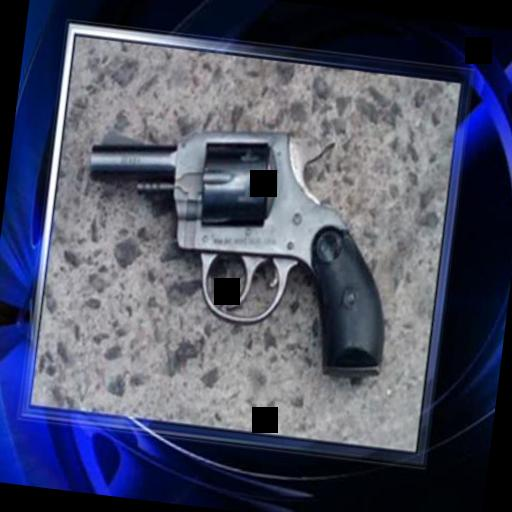Handgun: (64, 104, 410, 377)
